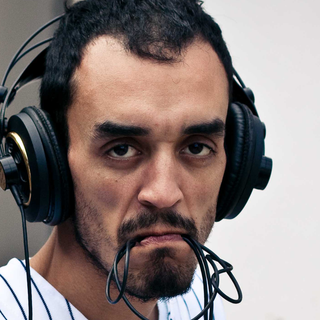eye: (98, 138, 146, 163), (177, 135, 217, 162)
